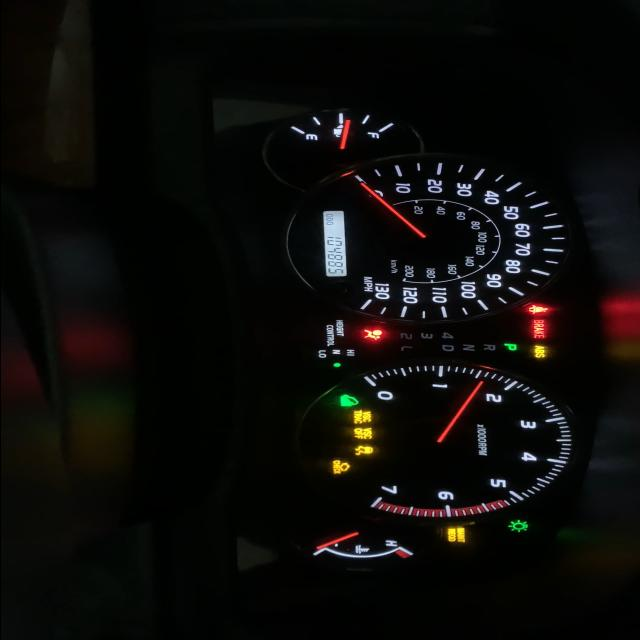Anti Lock Braking System: (533, 346, 545, 358)
Braking System Issue: (531, 319, 545, 339)
Check Engine: (330, 460, 350, 475)
Electronic Stability Problem -ESP-: (352, 445, 373, 457)
SRS-Airbag: (362, 329, 382, 341)
